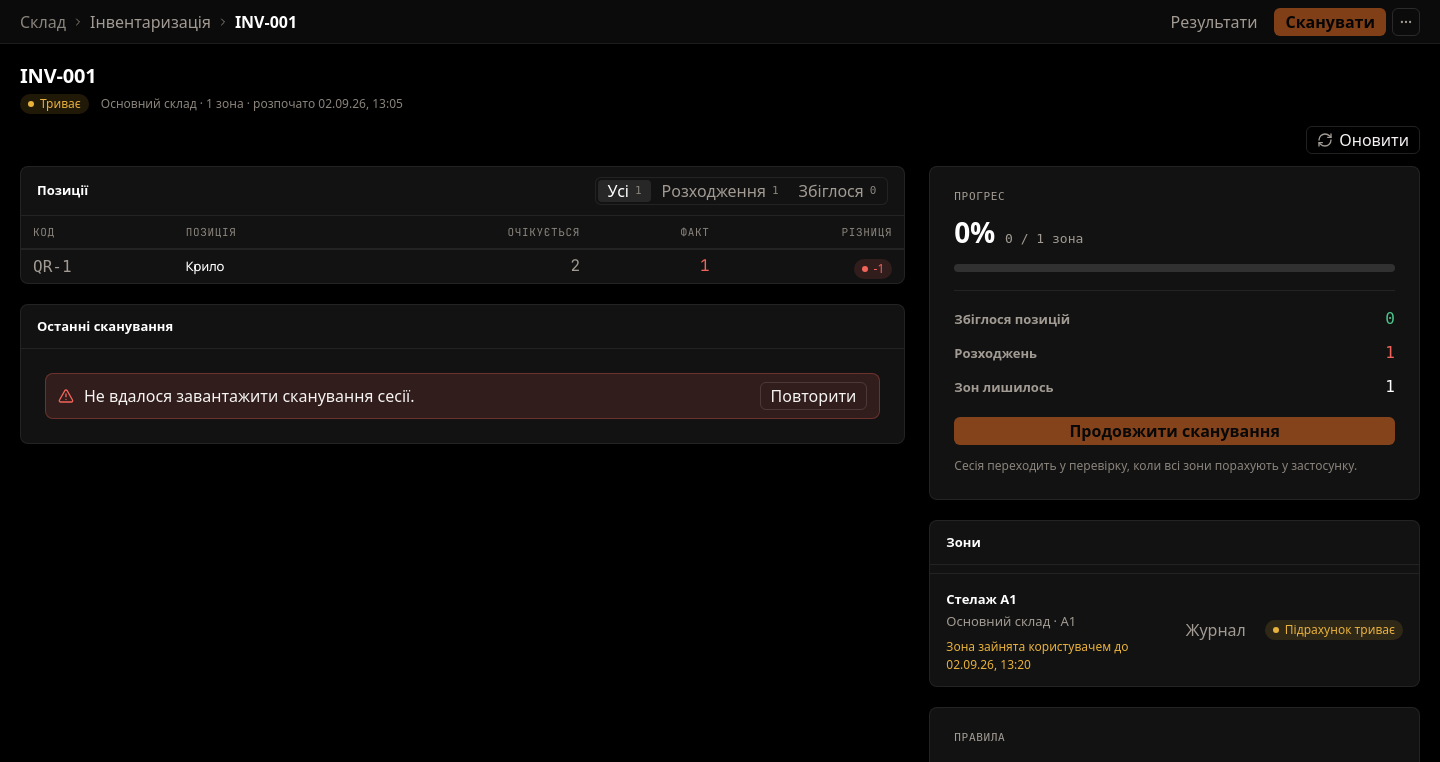
it: shows and retries scan failures without presenting an empty scan journal
Check: the text "Не вдалося завантажити сканування сесії." is shown, box x1=84 y1=385 x2=414 y2=407
Check: the text "Крило" is shown, box x1=186 y1=256 x2=224 y2=274
Click the button "Повторити": (814, 396) x1=760 y1=382 x2=867 y2=410
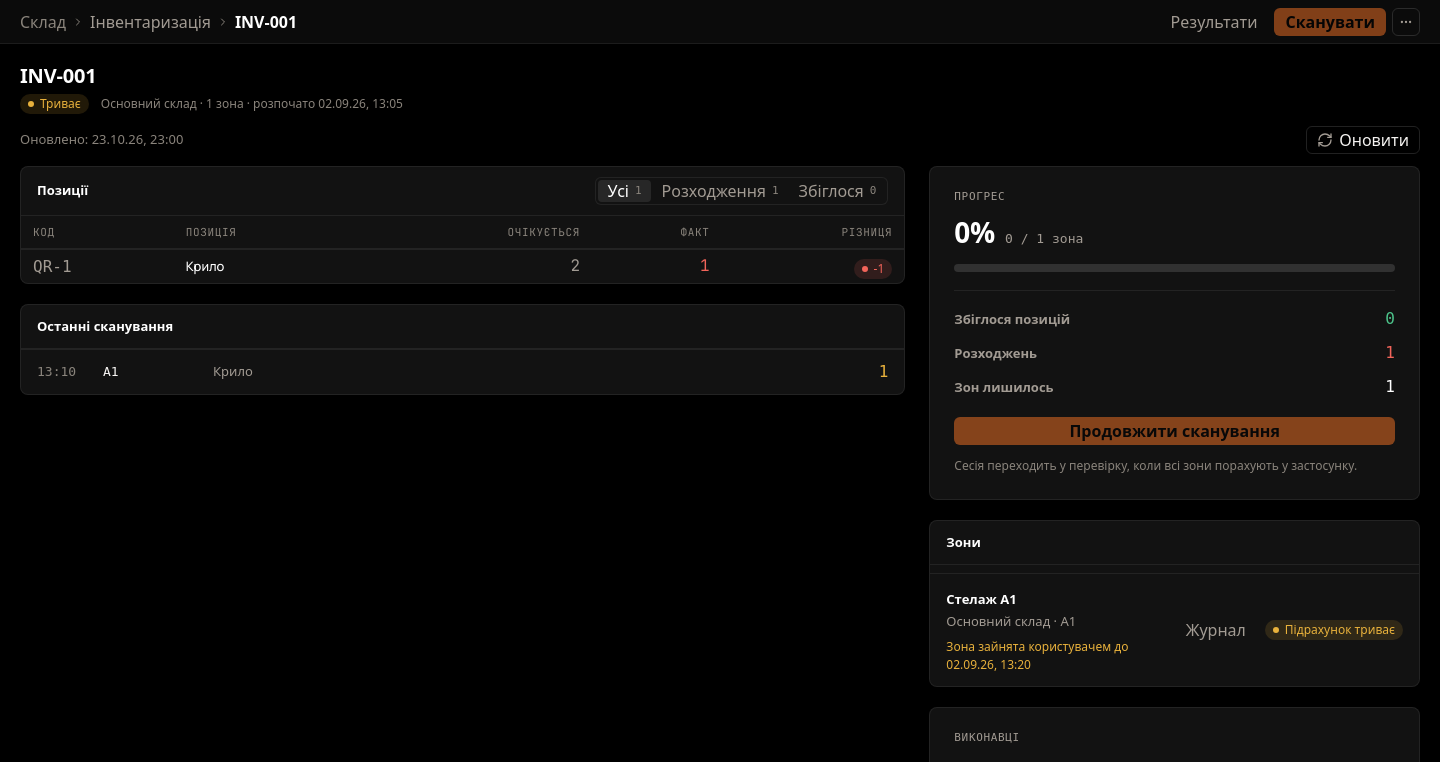
Check: the text "Крило" below "Останні сканування" is shown, box x1=213 y1=362 x2=253 y2=380
